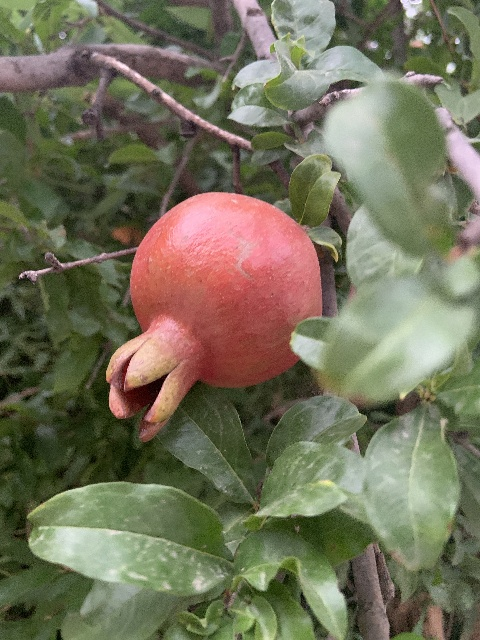ripe: (105, 189, 322, 440)
